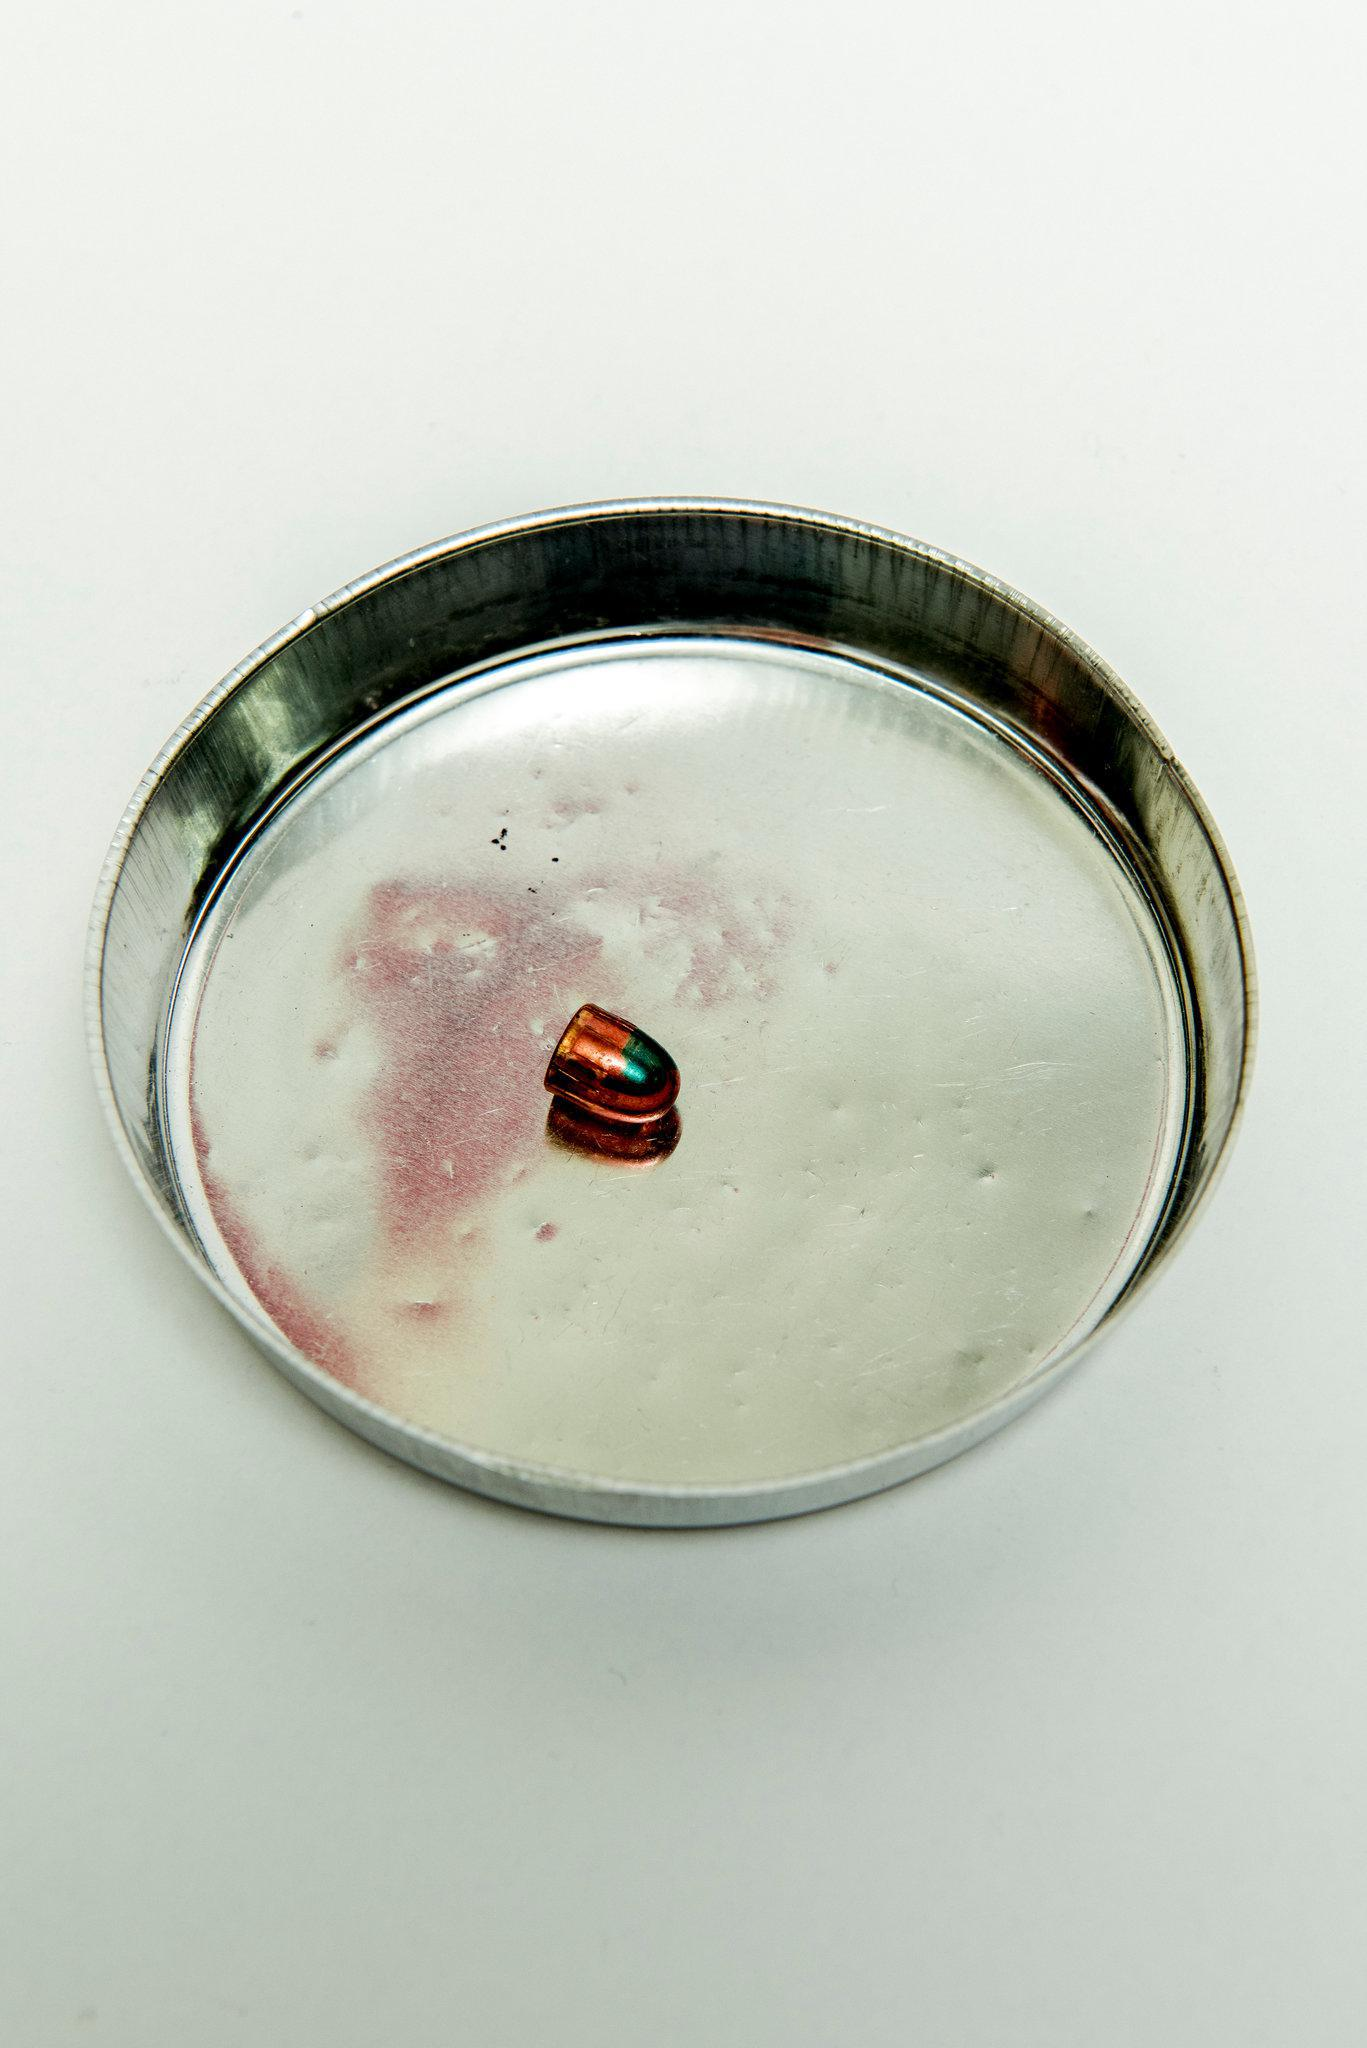Bullet: (502, 987, 725, 1164)
